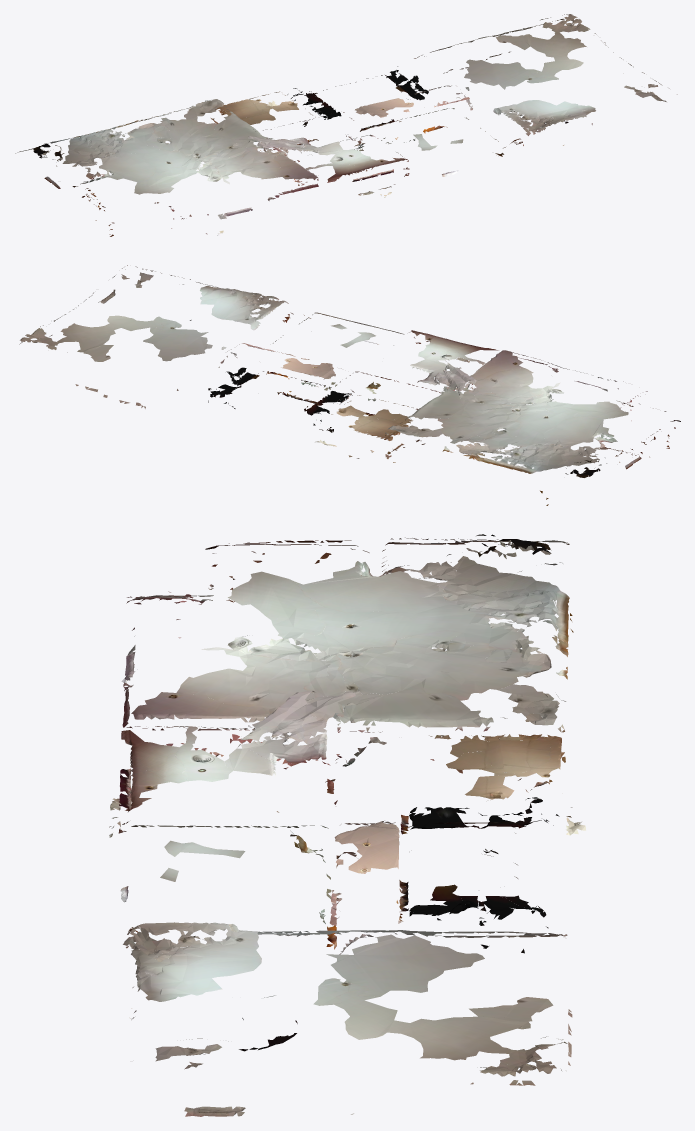
The model's file is esc_alta_techo_08.glb.
3 renders of one model, top to bottom at view 1: azimuth 30°, elevation 25°; view 2: azimuth 150°, elevation 25°; view 3: azimuth 270°, elevation 25°, orthographic. The views are drawn at different scales.
Parts seen in each view (by area): view 1: techo_Apartamento_y_bodega_8_GLTF_4, techo_Apartamento_y_bodega_8_GLTF_6, techo_Apartamento_y_bodega_8_GLTF_7, techo_Apartamento_y_bodega_8_GLTF, techo_Apartamento_y_bodega_8_GLTF_1, techo_Apartamento_y_bodega_8_GLTF_8, techo_Apartamento_y_bodega_8_GLTF_11, techo_Apartamento_y_bodega_8_GLTF_5, techo_Apartamento_y_bodega_8_GLTF_2, techo_Apartamento_y_bodega_8_GLTF_9, techo_Apartamento_y_bodega_8_GLTF_10, techo_Apartamento_y_bodega_8_GLTF_3; view 2: techo_Apartamento_y_bodega_8_GLTF_4, techo_Apartamento_y_bodega_8_GLTF_6, techo_Apartamento_y_bodega_8_GLTF, techo_Apartamento_y_bodega_8_GLTF_7, techo_Apartamento_y_bodega_8_GLTF_1, techo_Apartamento_y_bodega_8_GLTF_8, techo_Apartamento_y_bodega_8_GLTF_11, techo_Apartamento_y_bodega_8_GLTF_2, techo_Apartamento_y_bodega_8_GLTF_9, techo_Apartamento_y_bodega_8_GLTF_5, techo_Apartamento_y_bodega_8_GLTF_10, techo_Apartamento_y_bodega_8_GLTF_3; view 3: techo_Apartamento_y_bodega_8_GLTF_4, techo_Apartamento_y_bodega_8_GLTF_6, techo_Apartamento_y_bodega_8_GLTF_7, techo_Apartamento_y_bodega_8_GLTF_1, techo_Apartamento_y_bodega_8_GLTF, techo_Apartamento_y_bodega_8_GLTF_8, techo_Apartamento_y_bodega_8_GLTF_11, techo_Apartamento_y_bodega_8_GLTF_5, techo_Apartamento_y_bodega_8_GLTF_2, techo_Apartamento_y_bodega_8_GLTF_9, techo_Apartamento_y_bodega_8_GLTF_10, techo_Apartamento_y_bodega_8_GLTF_3.
Boxes of the visible parts, box(x1,y1,x2,y2) form: techo_Apartamento_y_bodega_8_GLTF_4: box(62, 44, 657, 215); techo_Apartamento_y_bodega_8_GLTF_6: box(86, 14, 590, 207); techo_Apartamento_y_bodega_8_GLTF_7: box(18, 32, 592, 228); techo_Apartamento_y_bodega_8_GLTF: box(33, 66, 498, 183); techo_Apartamento_y_bodega_8_GLTF_1: box(42, 23, 571, 188); techo_Apartamento_y_bodega_8_GLTF_8: box(82, 51, 662, 203); techo_Apartamento_y_bodega_8_GLTF_11: box(41, 14, 669, 234); techo_Apartamento_y_bodega_8_GLTF_5: box(108, 85, 677, 236); techo_Apartamento_y_bodega_8_GLTF_2: box(83, 93, 542, 185); techo_Apartamento_y_bodega_8_GLTF_9: box(73, 33, 652, 215); techo_Apartamento_y_bodega_8_GLTF_10: box(55, 73, 654, 220); techo_Apartamento_y_bodega_8_GLTF_3: box(15, 26, 535, 236); techo_Apartamento_y_bodega_8_GLTF_4: box(64, 274, 623, 474); techo_Apartamento_y_bodega_8_GLTF_6: box(19, 327, 680, 452); techo_Apartamento_y_bodega_8_GLTF: box(208, 312, 617, 477); techo_Apartamento_y_bodega_8_GLTF_7: box(57, 283, 647, 505); techo_Apartamento_y_bodega_8_GLTF_1: box(33, 290, 641, 469); techo_Apartamento_y_bodega_8_GLTF_8: box(75, 275, 655, 462); techo_Apartamento_y_bodega_8_GLTF_11: box(20, 272, 679, 472); techo_Apartamento_y_bodega_8_GLTF_2: box(125, 269, 523, 441); techo_Apartamento_y_bodega_8_GLTF_9: box(40, 268, 653, 473); techo_Apartamento_y_bodega_8_GLTF_5: box(102, 265, 669, 448); techo_Apartamento_y_bodega_8_GLTF_10: box(49, 296, 649, 473); techo_Apartamento_y_bodega_8_GLTF_3: box(67, 324, 644, 443); techo_Apartamento_y_bodega_8_GLTF_4: box(127, 556, 567, 1114); techo_Apartamento_y_bodega_8_GLTF_6: box(124, 544, 585, 1076); techo_Apartamento_y_bodega_8_GLTF_7: box(118, 562, 573, 1060); techo_Apartamento_y_bodega_8_GLTF_1: box(145, 534, 567, 1070); techo_Apartamento_y_bodega_8_GLTF: box(120, 535, 550, 944); techo_Apartamento_y_bodega_8_GLTF_8: box(112, 540, 571, 1111); techo_Apartamento_y_bodega_8_GLTF_11: box(109, 534, 571, 1085); techo_Apartamento_y_bodega_8_GLTF_5: box(109, 571, 521, 1116); techo_Apartamento_y_bodega_8_GLTF_2: box(131, 565, 512, 1046); techo_Apartamento_y_bodega_8_GLTF_9: box(123, 538, 569, 1067); techo_Apartamento_y_bodega_8_GLTF_10: box(126, 550, 584, 1116); techo_Apartamento_y_bodega_8_GLTF_3: box(121, 539, 572, 1046).
Bounding box in the file's own units: 17.55 × 1.18 × 6.49.
Materials: 12 (12 with a texture image).
